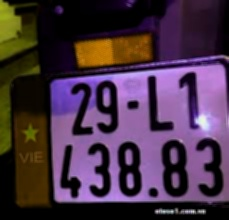Bien-so: (41, 56, 229, 202)
